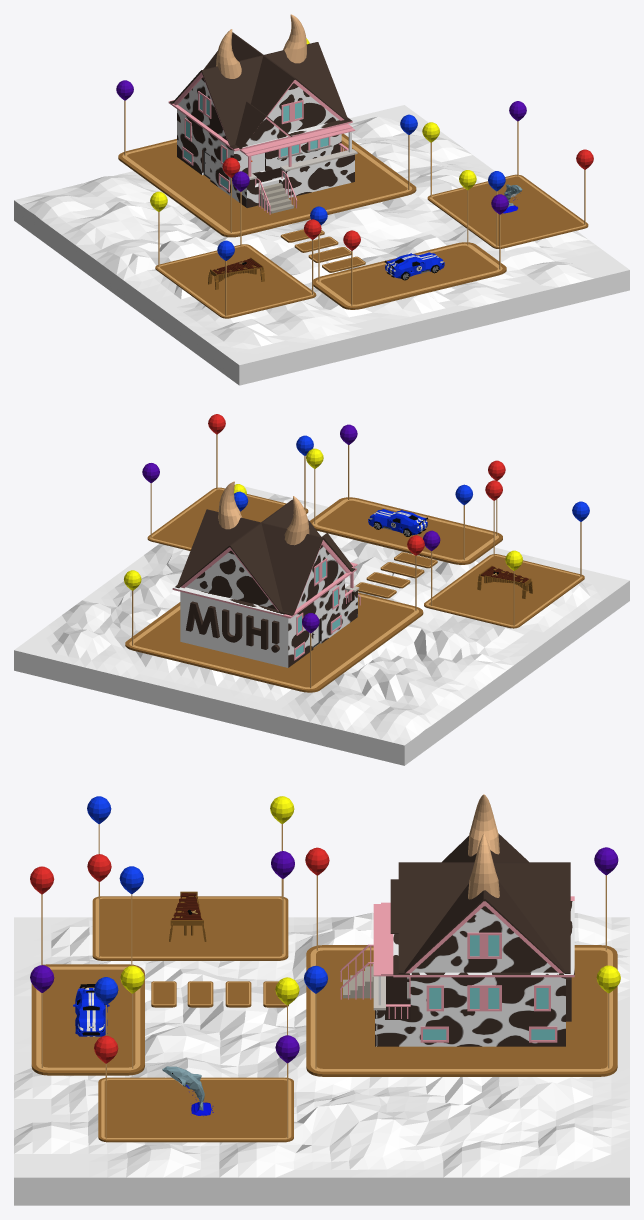
3 views of the same model, one above another, from view 1: azimuth 30°, elevation 25°; view 2: azimuth 150°, elevation 25°; view 3: azimuth 270°, elevation 25° (orthographic). The views are drawn at different scales.
Parts seen in each view (by area): view 1: Cube.013, Cube.1242, VEHICLES_RACING_CAR, OBJRANDOM_MARIMBA; view 2: Cube.013, Cube.1242, VEHICLES_RACING_CAR, OBJRANDOM_MARIMBA; view 3: Cube.013, Cube.1242, VEHICLES_RACING_CAR, OBJRANDOM_MARIMBA, ANIMAL_DELFIN.
Boxes of the visible parts, x1,y1,x2,y2 form: Cube.013: (14,38,629,385); Cube.1242: (168,14,357,214); VEHICLES_RACING_CAR: (384,252,444,280); OBJRANDOM_MARIMBA: (208,257,264,289); Cube.013: (14,414,629,765); Cube.1242: (172,481,360,667); VEHICLES_RACING_CAR: (368,509,427,536); OBJRANDOM_MARIMBA: (477,565,532,598); Cube.013: (14,796,629,1205); Cube.1242: (340,794,574,1046); VEHICLES_RACING_CAR: (73,984,109,1036); OBJRANDOM_MARIMBA: (169,891,206,941); ANIMAL_DELFIN: (162,1066,213,1116).
Size of the model in its own units: 4000 by 1950 by 4000.
38 materials, 1 textured.
